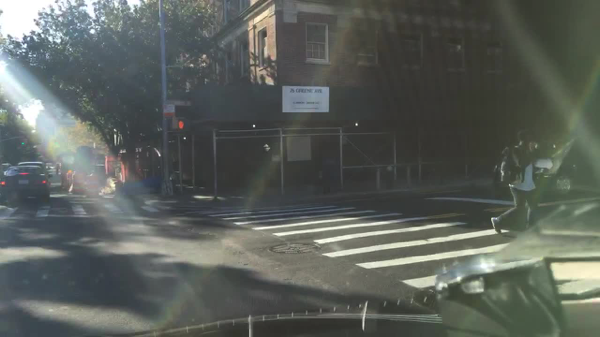car: (492, 139, 599, 200), (0, 167, 50, 207), (17, 162, 52, 183)
person: (489, 128, 549, 244), (317, 151, 334, 193), (55, 162, 62, 177)
traffic light: (172, 117, 187, 132), (22, 137, 26, 146)
traffic sign: (162, 104, 175, 117), (165, 100, 192, 106)
